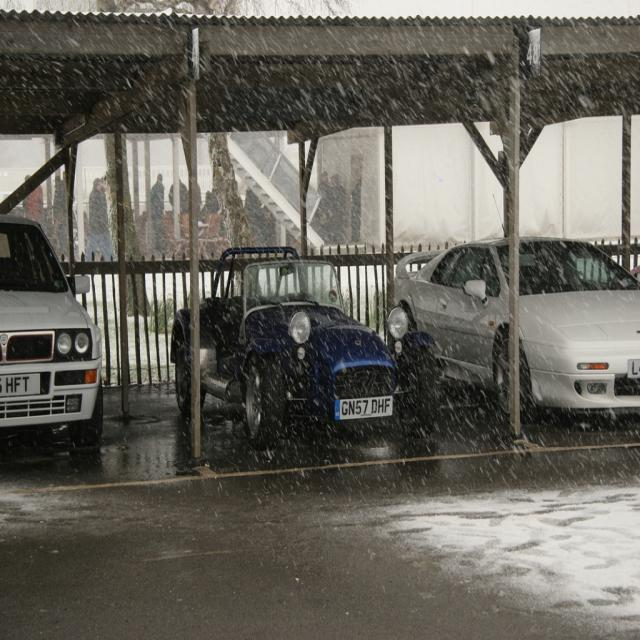car: (166, 244, 411, 443), (392, 230, 639, 422)
